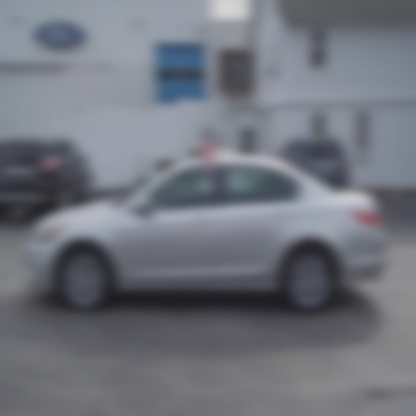Vehicle: (21, 153, 386, 316)
